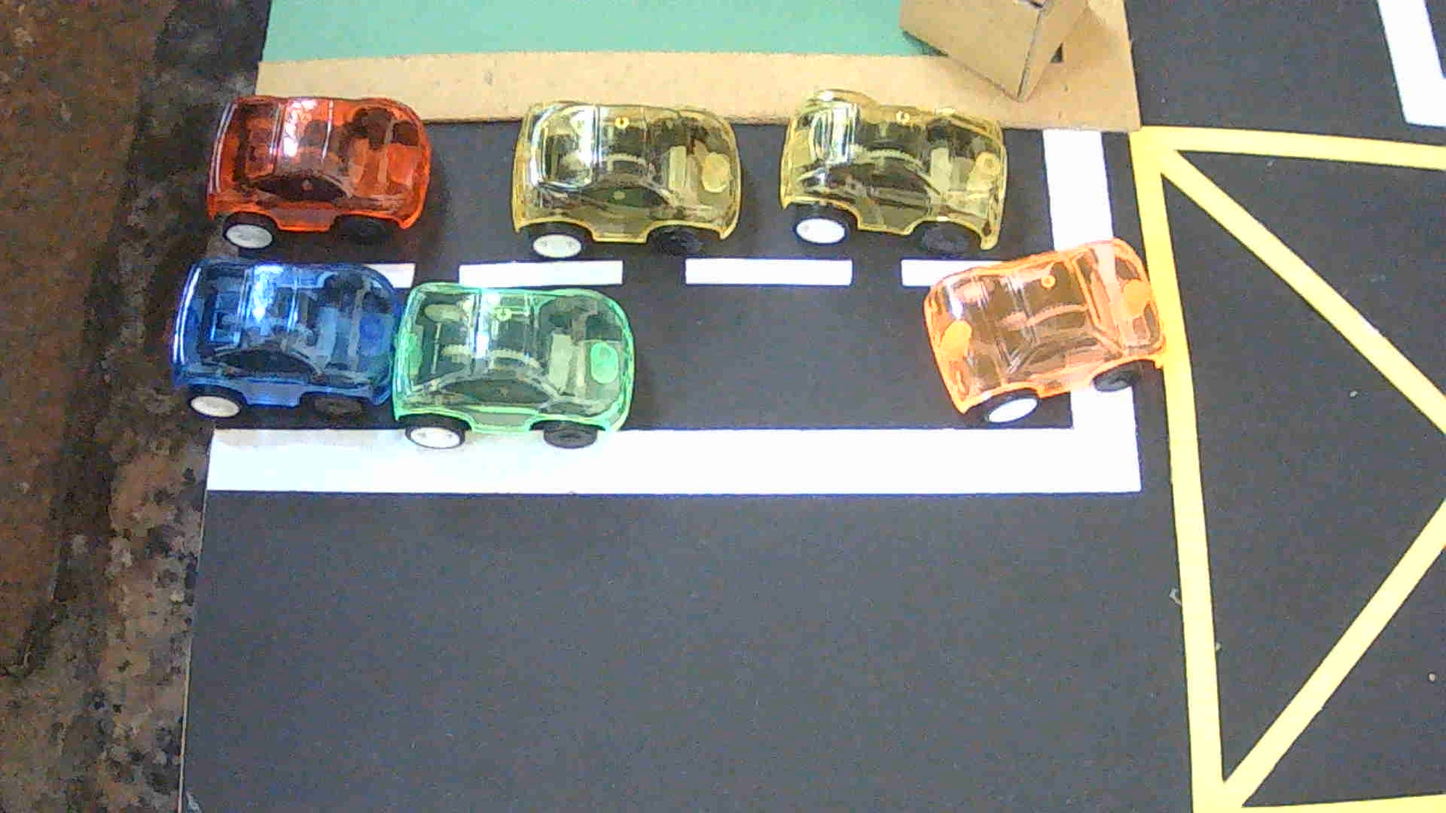Mobil biru: (172, 257, 404, 419)
Mobil hijau: (393, 282, 635, 448)
Mobil kuning: (779, 90, 1008, 256), (513, 101, 741, 257)
Mobil merah: (207, 96, 430, 250)
Mobil orange: (925, 238, 1164, 425)
